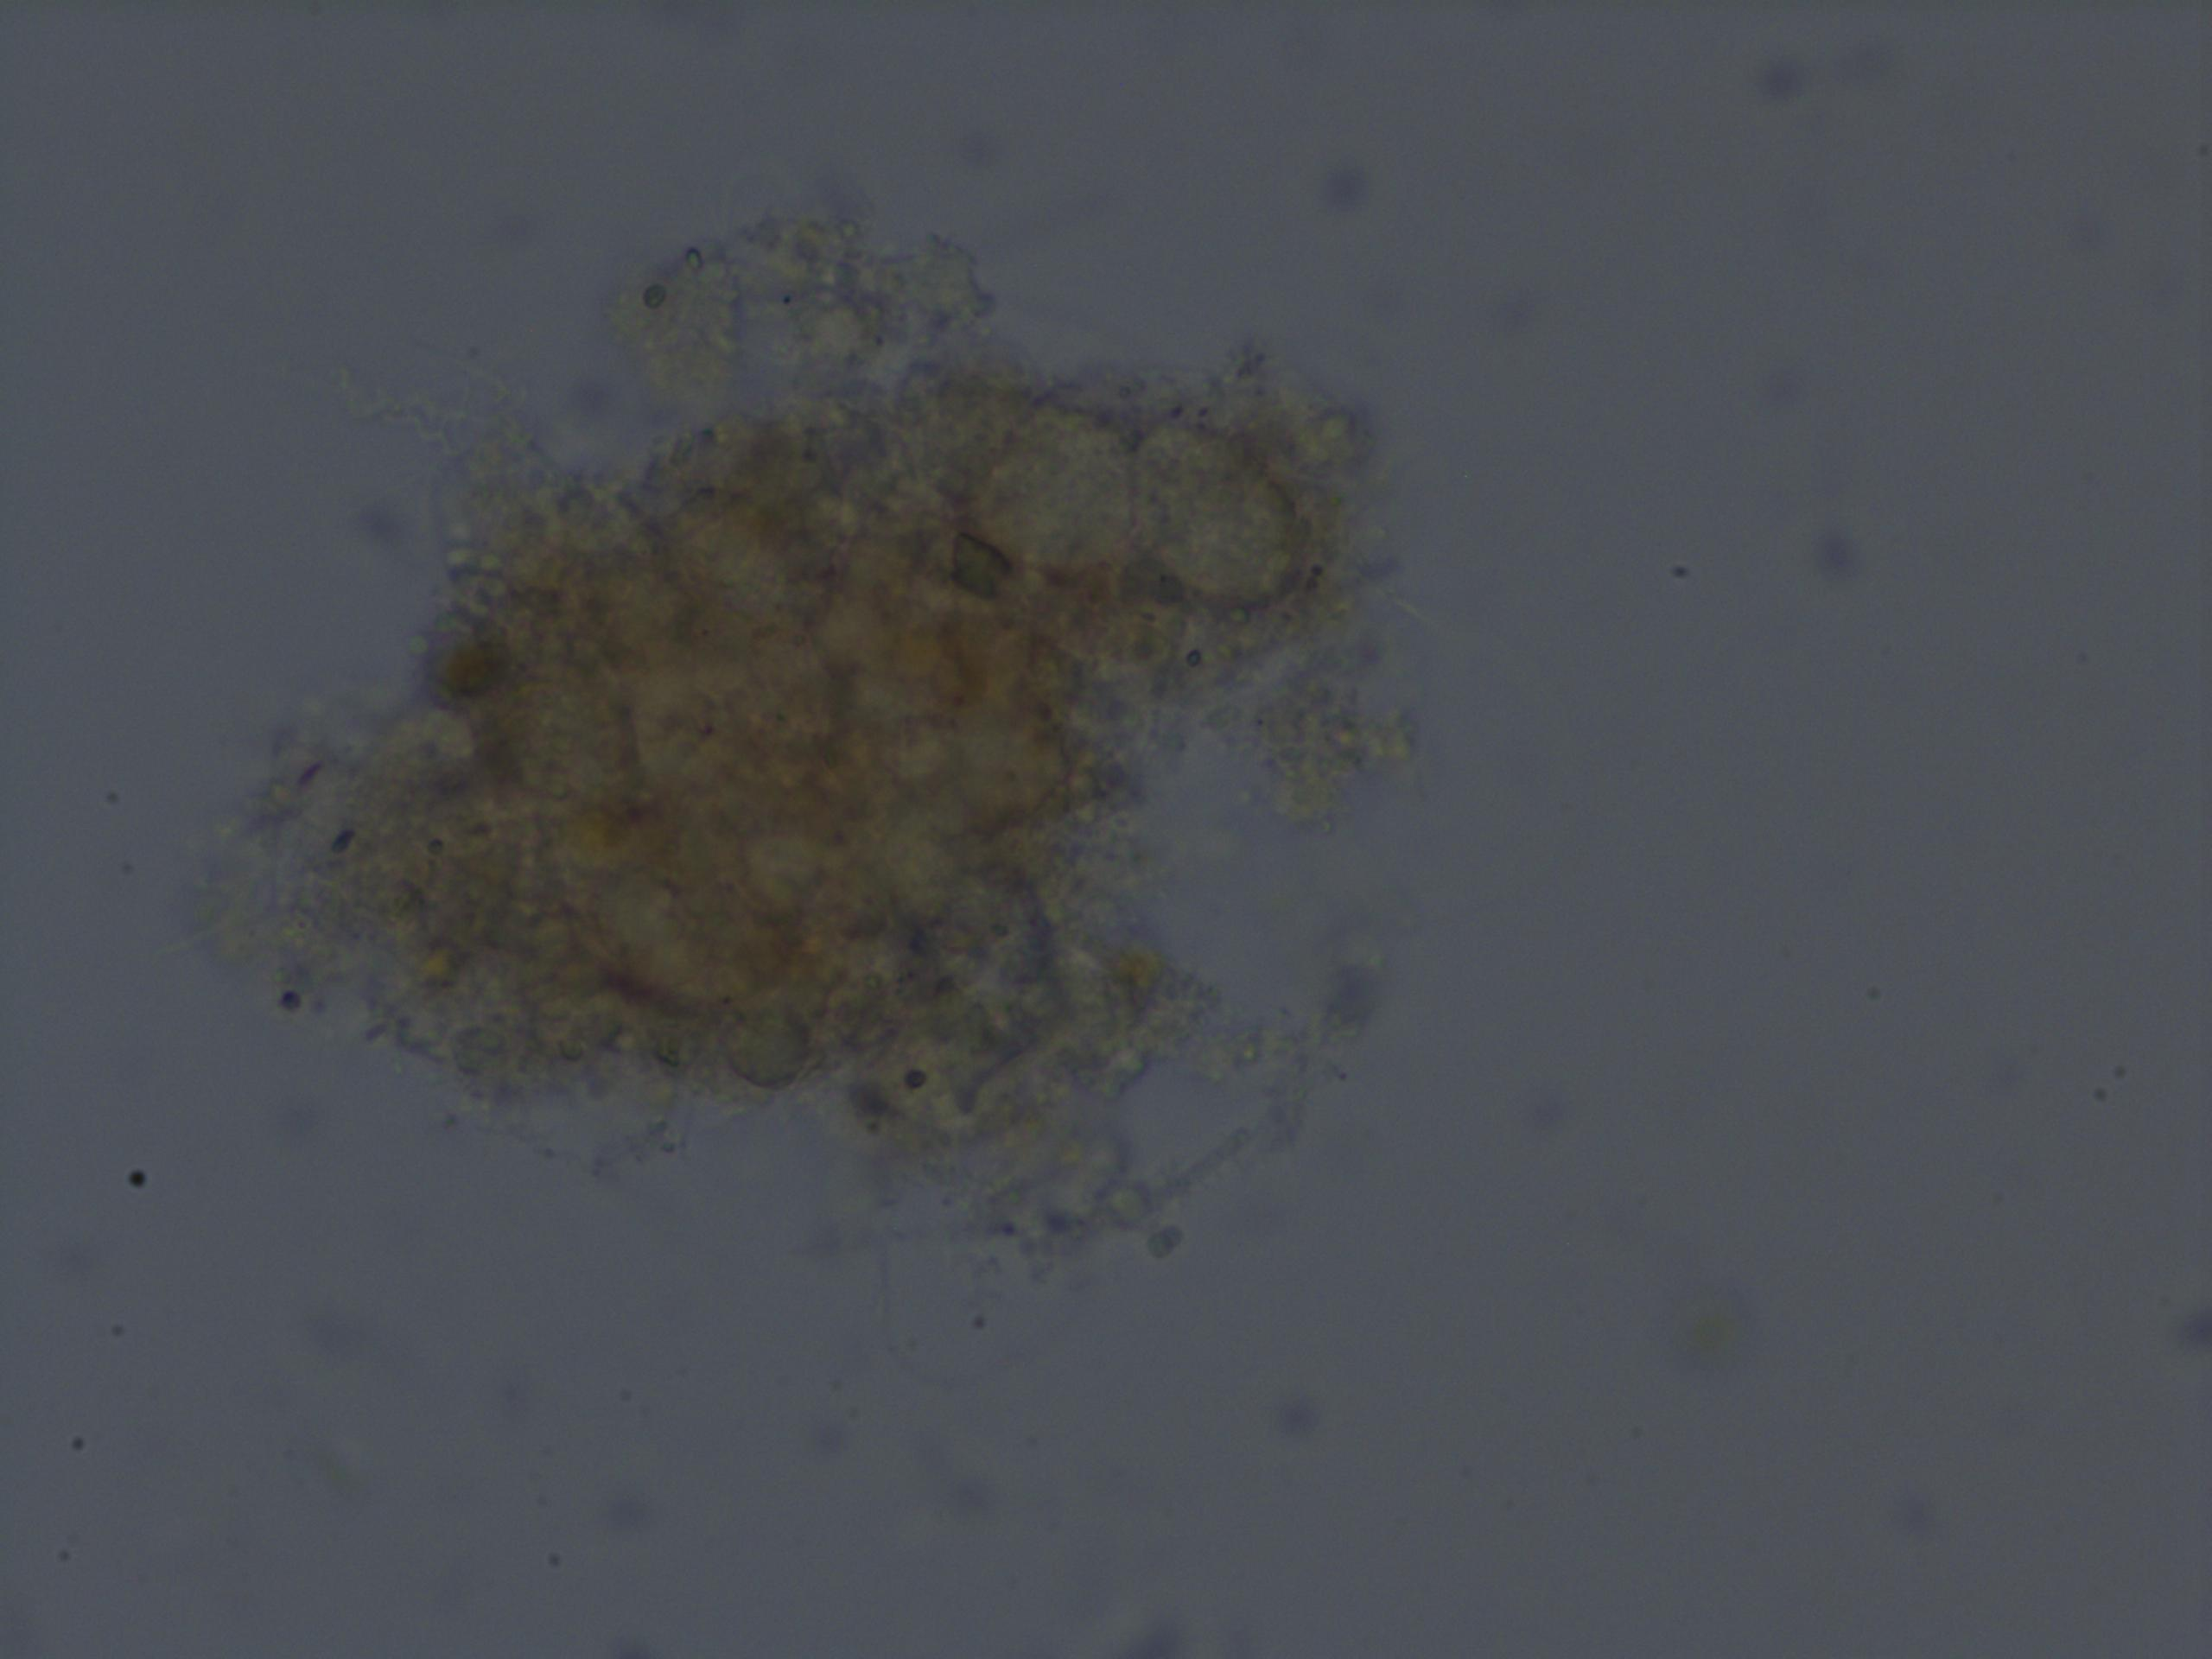spherical_floc: (204, 193, 1406, 1283)
